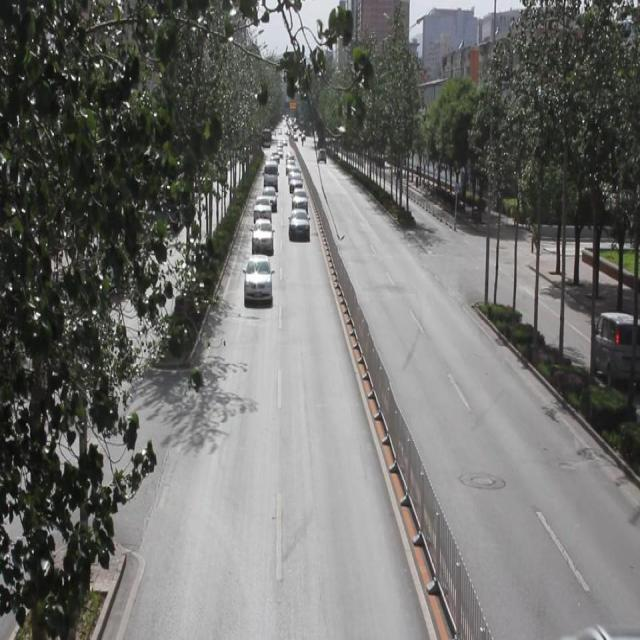car: (244, 252, 272, 302), (252, 217, 273, 256), (288, 208, 308, 240), (254, 194, 273, 223), (290, 185, 307, 213), (260, 184, 276, 210)
truck: (590, 307, 640, 389)
